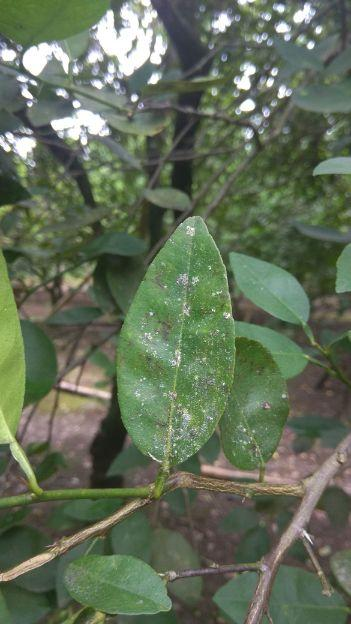Myzus persicae: (118, 217, 234, 466)
